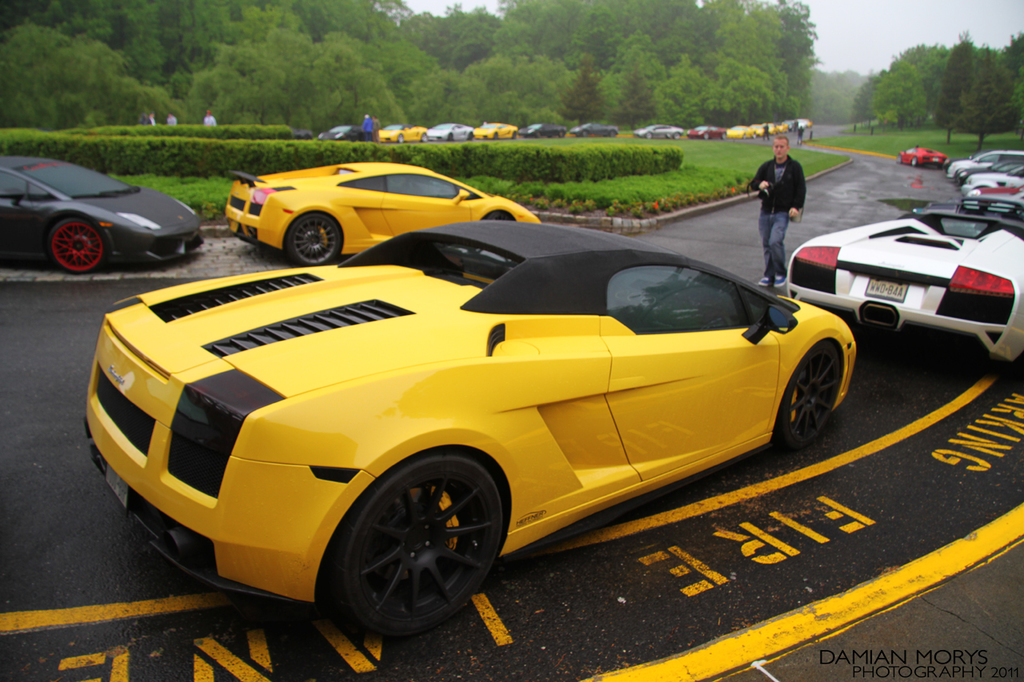Car: (86, 215, 853, 636), (780, 194, 1023, 380), (224, 157, 547, 265), (4, 138, 203, 277), (949, 148, 1020, 187), (957, 157, 1023, 190), (368, 120, 428, 144), (896, 144, 951, 167), (632, 122, 688, 143), (469, 118, 520, 141), (572, 116, 620, 137), (519, 116, 565, 137), (423, 123, 462, 147), (688, 124, 725, 143), (726, 122, 756, 136)
